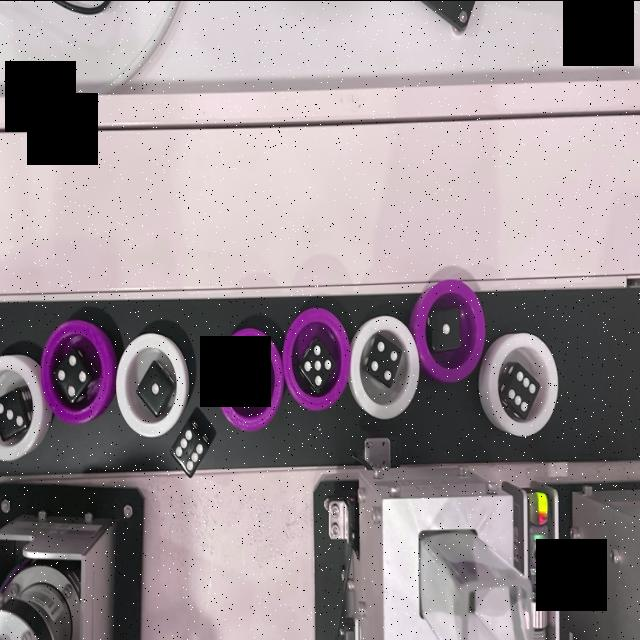DICE1: (140, 366, 166, 406), (434, 313, 457, 347)
DICE2: (239, 356, 267, 400)
DICE3: (0, 398, 24, 432)
DICE4: (57, 352, 87, 398), (372, 339, 400, 383)
DICE5: (304, 340, 332, 390)
DICE6: (177, 430, 204, 476), (508, 369, 536, 411)
RedChip: (42, 316, 110, 424), (418, 278, 486, 380), (284, 308, 350, 412), (216, 328, 282, 424)
WhiteChip: (488, 333, 560, 435), (351, 314, 417, 418), (116, 331, 186, 428), (0, 355, 42, 461)
